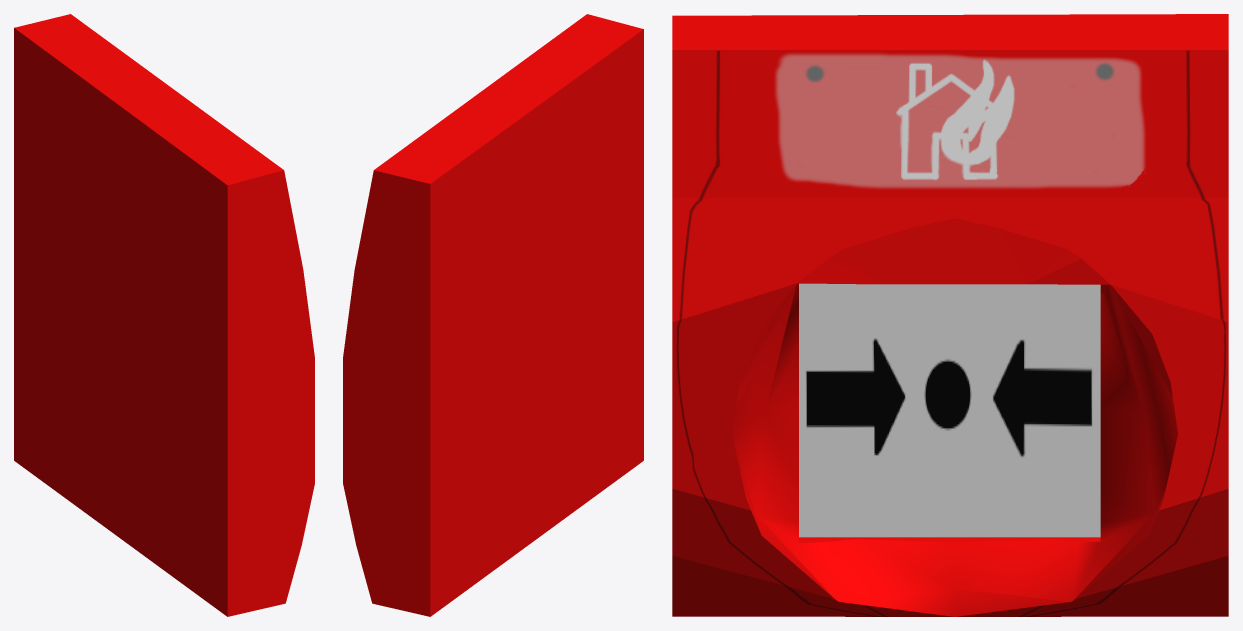
The model's file is FireAlarmButton.fbx.
3 views of the same model, side by side, from view 1: azimuth 30°, elevation 25°; view 2: azimuth 150°, elevation 25°; view 3: azimuth 270°, elevation 25° (orthographic). The views are drawn at different scales.
Visible parts, largest first — view 1: Plane; view 2: Plane; view 3: Plane.
Boxes of the visible parts, left/top/right/bottom form: Plane: left=14, top=14, right=314, bottom=616; Plane: left=343, top=14, right=643, bottom=616; Plane: left=672, top=14, right=1228, bottom=616.
Size of the model in its own units: 116 by 512 by 456.
1 material, 1 textured.
